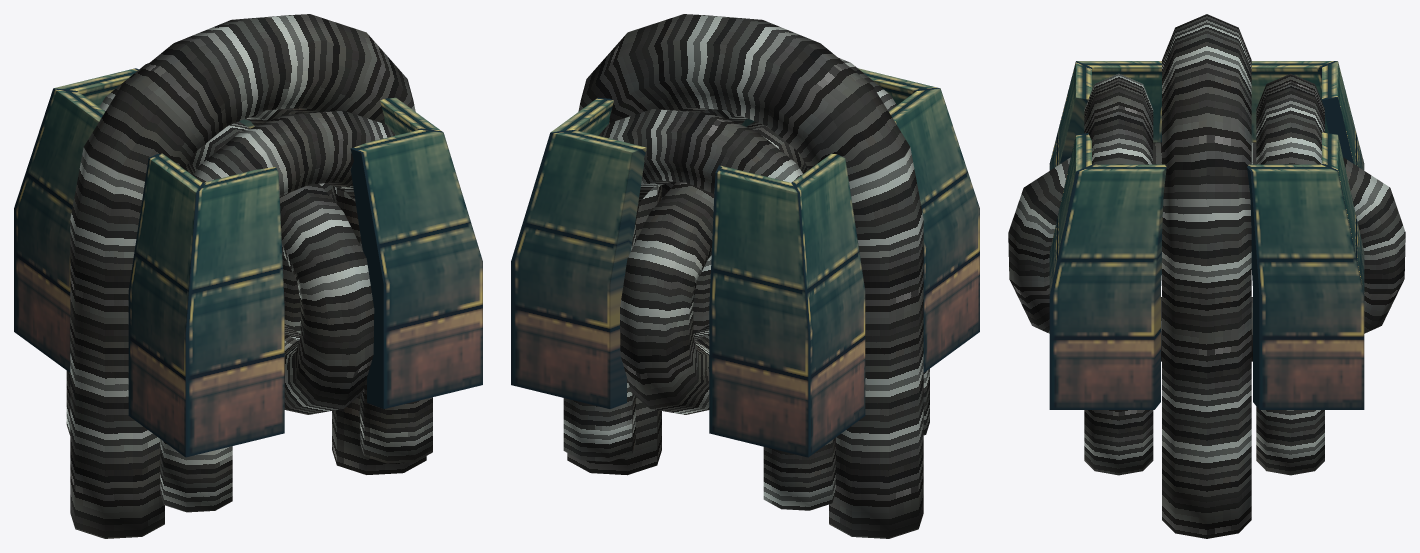
The model's file is cooler.FBX.
3 views of the same model, side by side, from view 1: azimuth 30°, elevation 25°; view 2: azimuth 150°, elevation 25°; view 3: azimuth 270°, elevation 25° (orthographic). The views are drawn at different scales.
Visible parts, largest first — view 1: Hull, Line001, Line003, Line005, Line002; view 2: Hull, Line001, Line002, Line005, Line003; view 3: Hull, Line001, Line005, Line002, Line003.
Boxes of the visible parts, x1,y1,x2,y2 form: Hull: (14,68,482,457); Line001: (70,14,426,538); Line003: (160,110,432,512); Line005: (185,121,374,414); Line002: (66,63,331,435); Hull: (511,68,979,457); Line001: (567,14,923,538); Line002: (563,109,835,510); Line005: (620,121,809,414); Line003: (662,58,929,435); Hull: (1049,61,1364,409); Line001: (1162,14,1251,538); Line005: (1008,142,1405,361); Line002: (1256,73,1324,475); Line003: (1084,73,1153,475).
Bounding box in the file's own units: 97.41 × 126 × 106.
